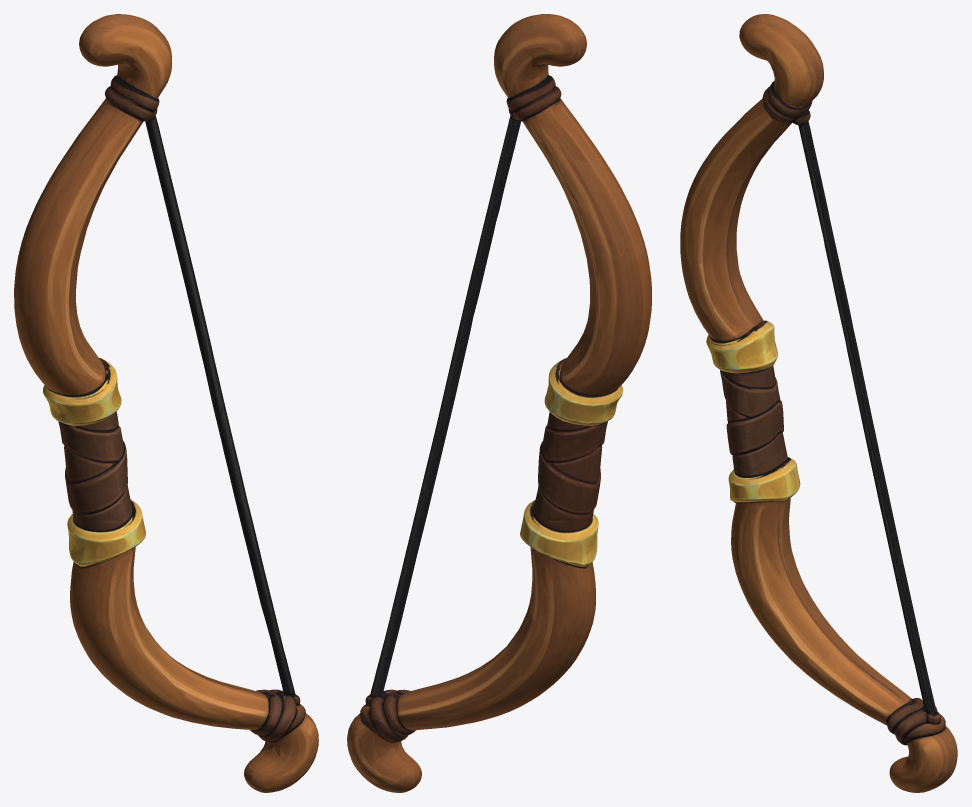
Rendered from bow-original.glb.
The picture shows the model from 3 angles, left to right: view 1: azimuth 30°, elevation 25°; view 2: azimuth 150°, elevation 25°; view 3: azimuth 330°, elevation 25°; orthographic projection. The views are drawn at different scales.
Parts seen in each view (by area): view 1: output_unwrapped; view 2: output_unwrapped; view 3: output_unwrapped.
Part boxes in pixels (bbox=[...]): output_unwrapped: bbox=[14, 14, 318, 792]; output_unwrapped: bbox=[347, 14, 651, 792]; output_unwrapped: bbox=[680, 14, 957, 792].
Size of the model in its own units: 0.7267 by 1.9 by 0.1719.
1 material, 1 textured.
